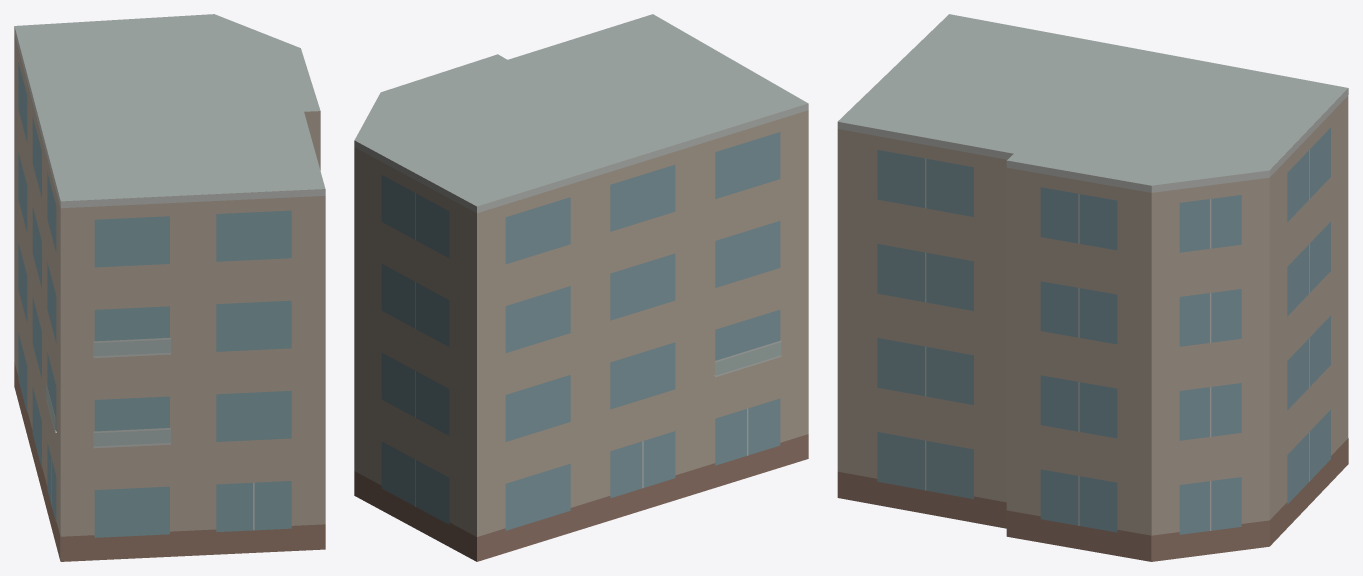
File: survey-upis-32924475.glb
The picture shows the model from 3 angles, left to right: view 1: azimuth 30°, elevation 25°; view 2: azimuth 150°, elevation 25°; view 3: azimuth 270°, elevation 25°; orthographic projection. The views are drawn at different scales.
Visible parts, largest first — view 1: survey-upis-32924475.tmp; view 2: survey-upis-32924475.tmp; view 3: survey-upis-32924475.tmp.
Boxes of the visible parts, x1,y1,x2,y2 form: survey-upis-32924475.tmp: (14, 14, 325, 561); survey-upis-32924475.tmp: (354, 14, 808, 561); survey-upis-32924475.tmp: (837, 14, 1348, 561).
Bounding box in the file's own units: 12.54 × 12.8 × 15.77.
